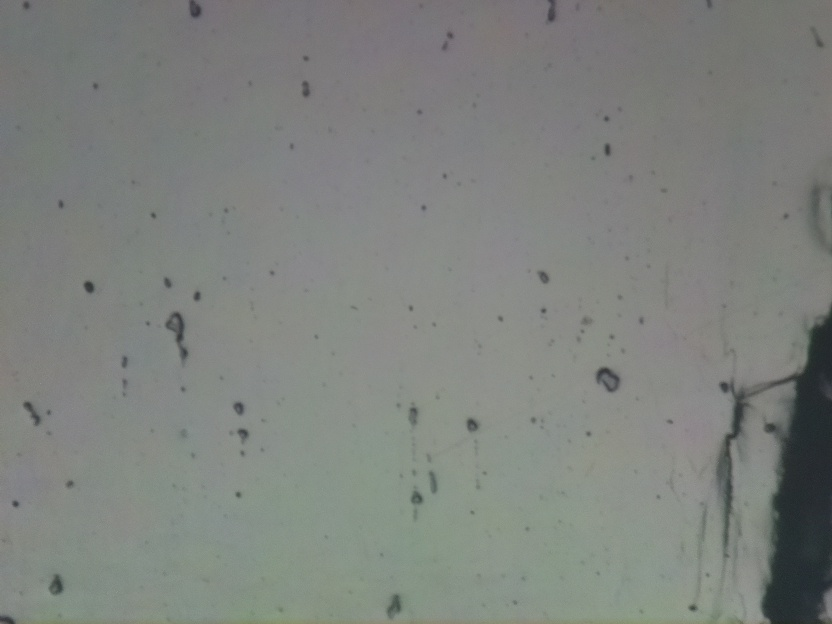crack: (760, 316, 832, 624), (712, 379, 748, 558)
